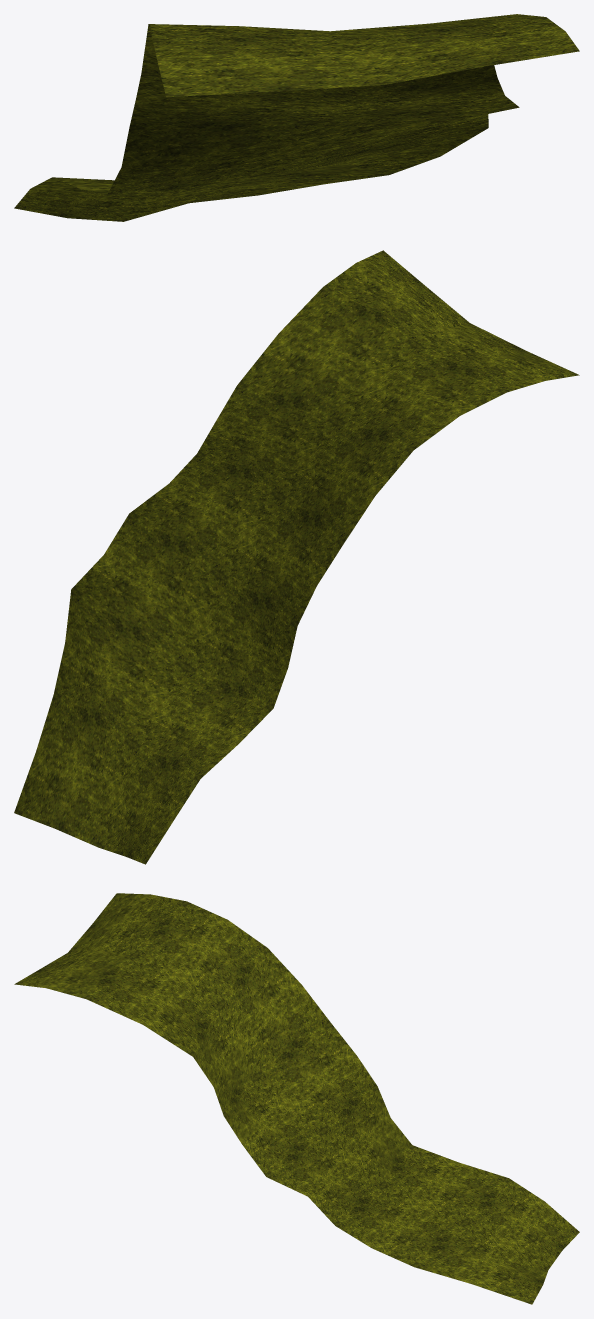
Rendered from TROLLHOLE02_PS-FRONT07.fbx.
3 renders of one model, top to bottom at view 1: azimuth 30°, elevation 25°; view 2: azimuth 150°, elevation 25°; view 3: azimuth 270°, elevation 25°, orthographic. The views are drawn at different scales.
Parts seen in each view (by area): view 1: TROLLHOLE02_PS-FRONT07; view 2: TROLLHOLE02_PS-FRONT07; view 3: TROLLHOLE02_PS-FRONT07.
Boxes of the visible parts, left/top/right/bottom form: TROLLHOLE02_PS-FRONT07: left=14, top=14, right=579, bottom=221; TROLLHOLE02_PS-FRONT07: left=14, top=250, right=579, bottom=864; TROLLHOLE02_PS-FRONT07: left=14, top=893, right=579, bottom=1304.
Size of the model in its own units: 221933 by 199501 by 342019.
Materials: 1 (1 with a texture image).
